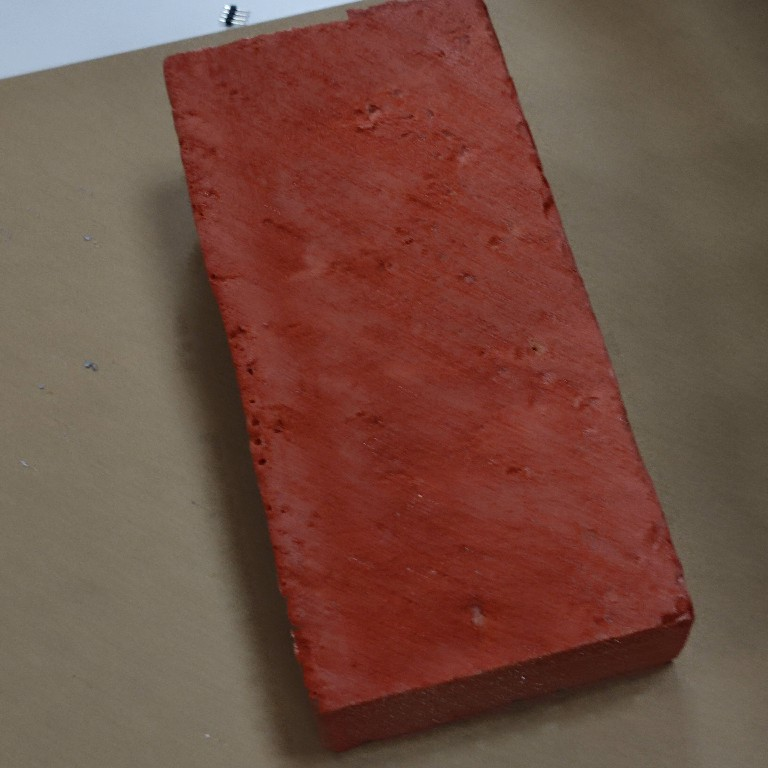brick: (154, 1, 700, 768)
